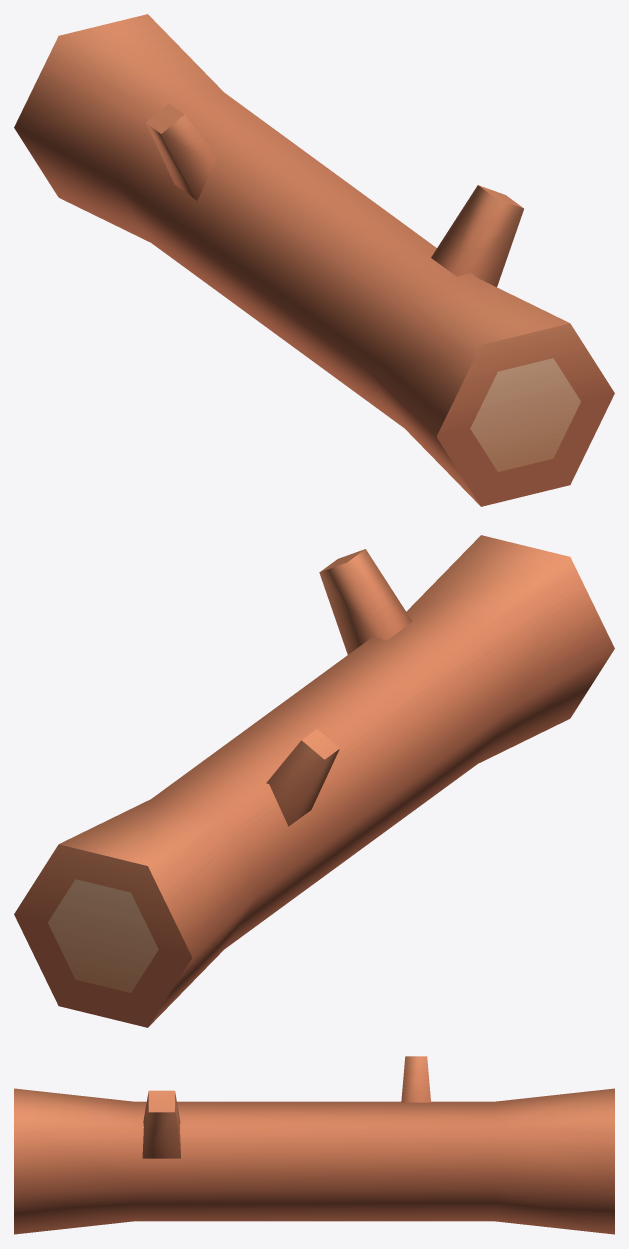
File: tree-log.glb
3 views of the same model, one above another, from view 1: azimuth 30°, elevation 25°; view 2: azimuth 150°, elevation 25°; view 3: azimuth 270°, elevation 25° (orthographic). The views are drawn at different scales.
Parts seen in each view (by area): view 1: tree-log; view 2: tree-log; view 3: tree-log.
Part boxes in pixels (<box>): tree-log: <box>14,14,614,506</box>; tree-log: <box>14,535,614,1027</box>; tree-log: <box>14,1056,614,1234</box>.
Size of the model in its own units: 0.2495 by 0.2771 by 1.
Materials: 1 (1 with a texture image).
